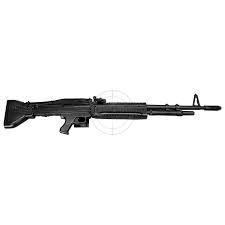larga: (2, 93, 222, 136)
